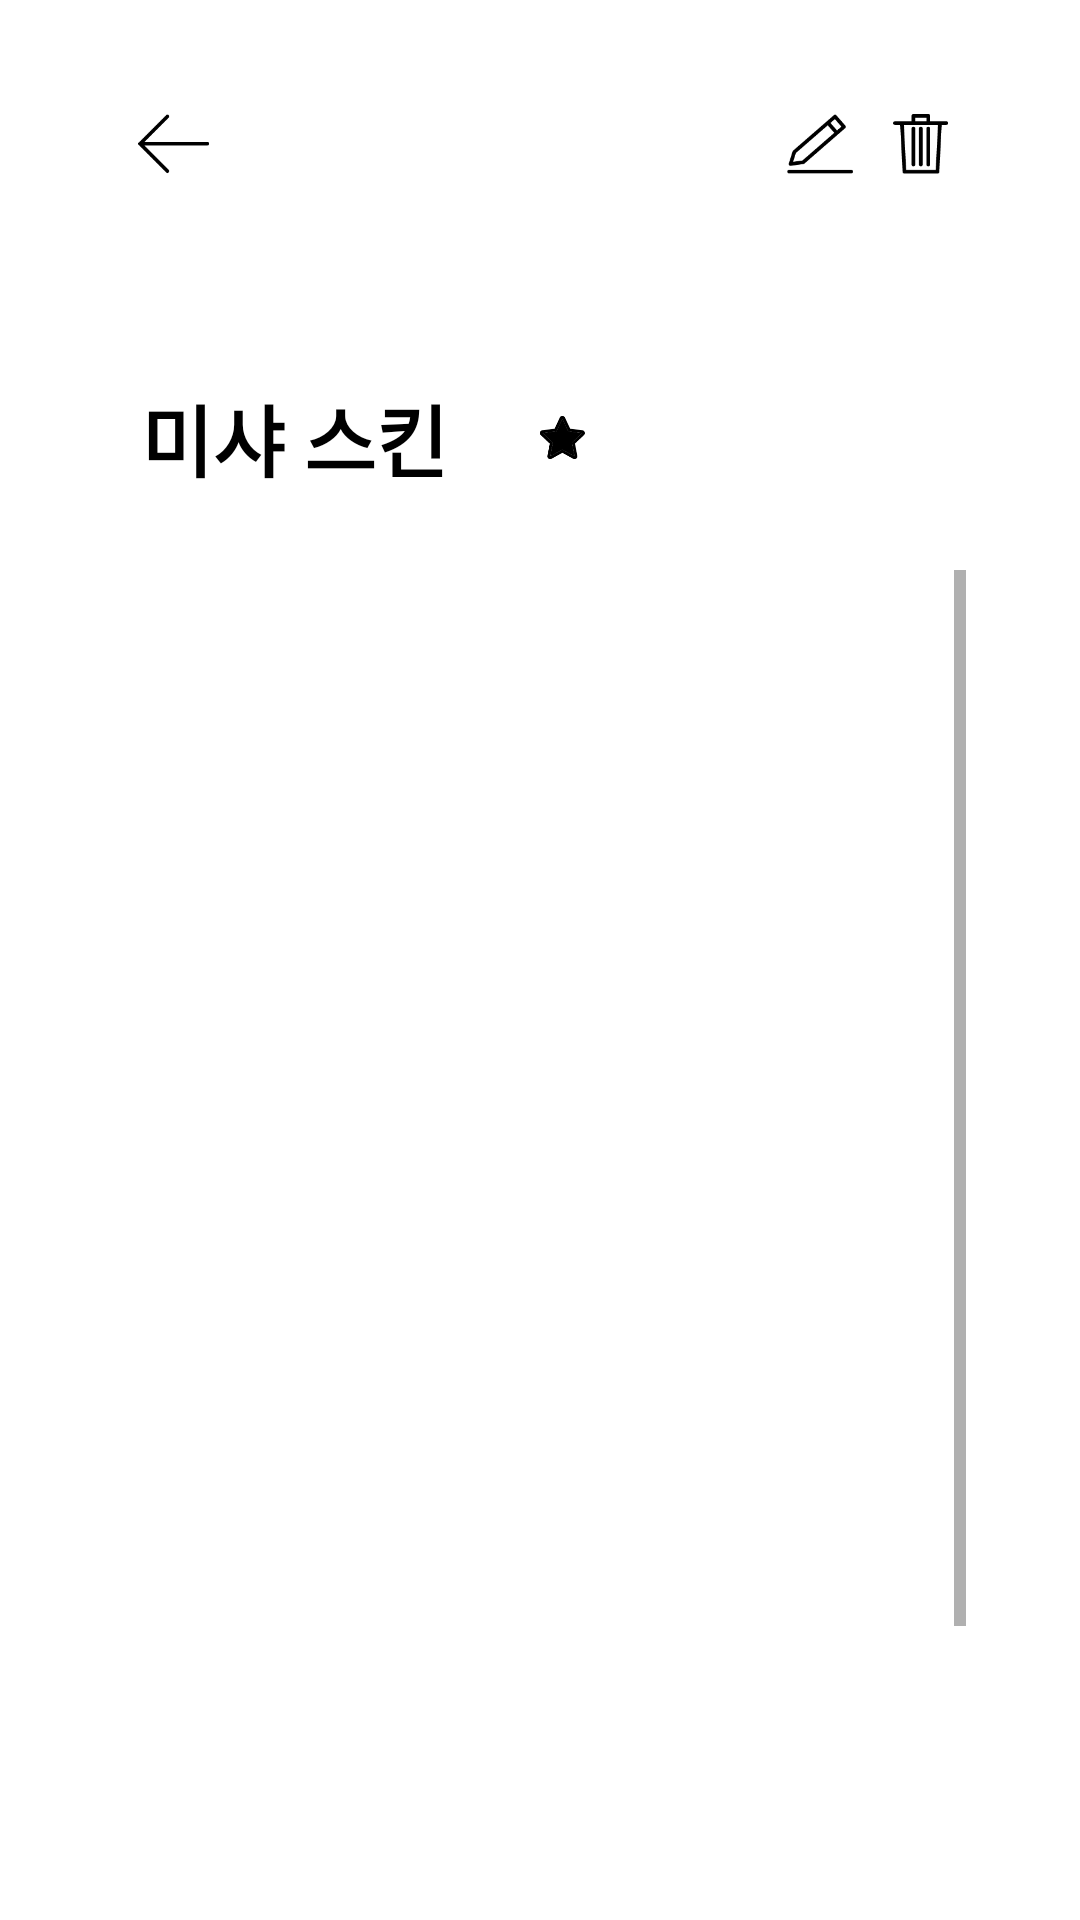

Where icons sit on this 1080 × 1920 app screen, as (x1, y1, x2, y2):
back: (138, 114, 209, 173)
delete: (893, 114, 948, 174)
edit: (787, 114, 853, 174)
star: (540, 416, 585, 459)
